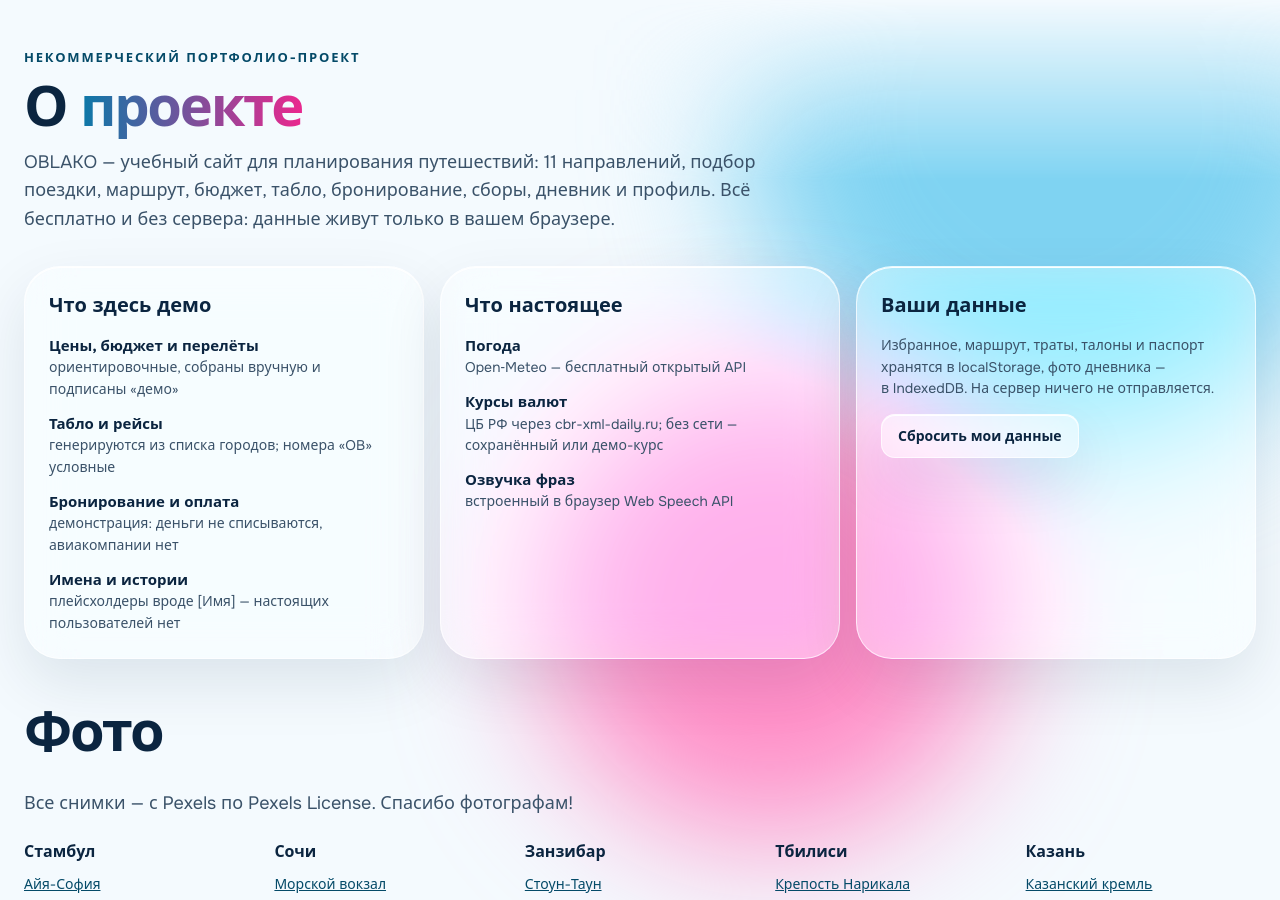
Test: About › resets user data after confirmation
Click the button "Сбросить мои данные". click: [980, 436]
box: [881,414,1079,458]
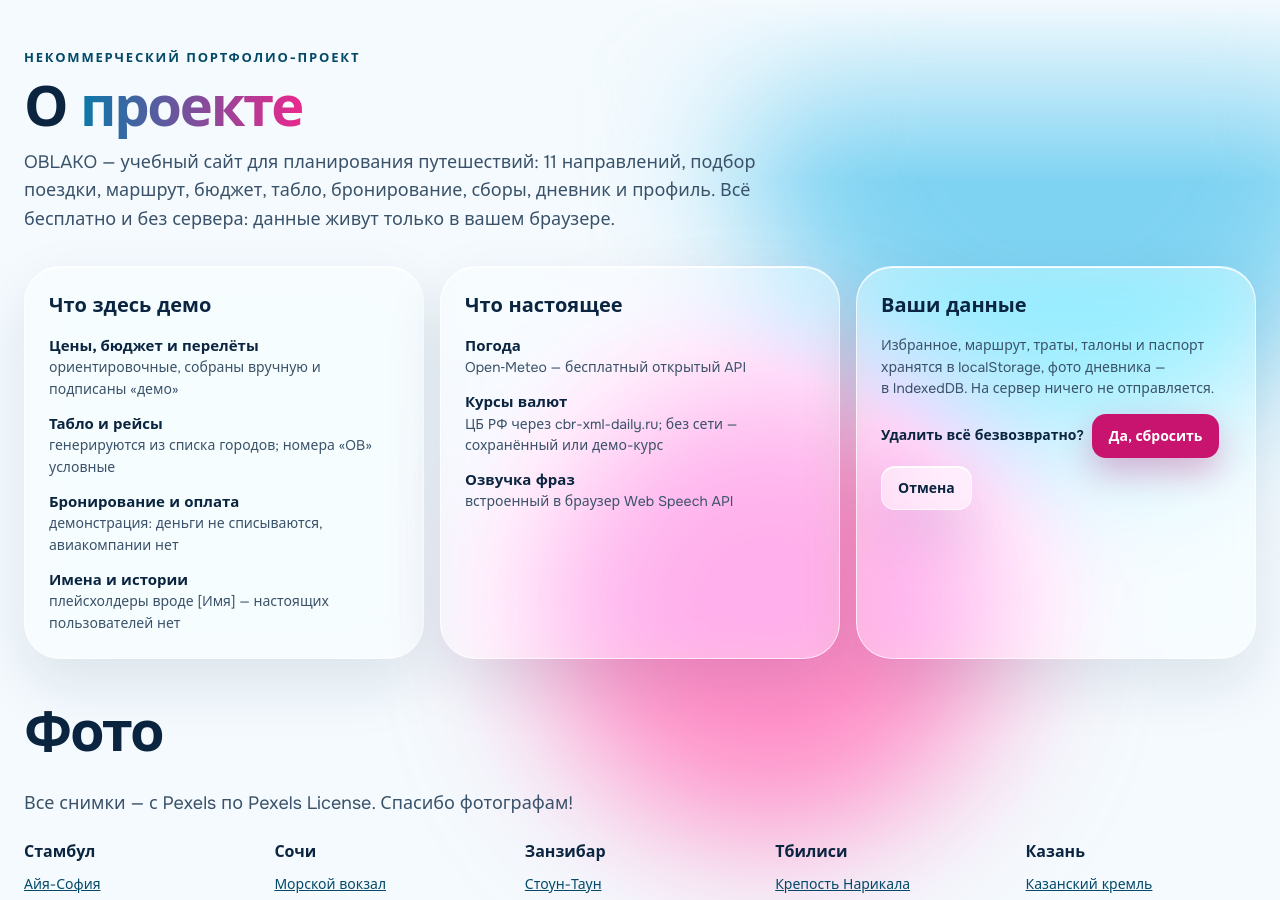
Click the button "Да, сбросить". click: [1156, 436]
box: [1092,414,1219,458]
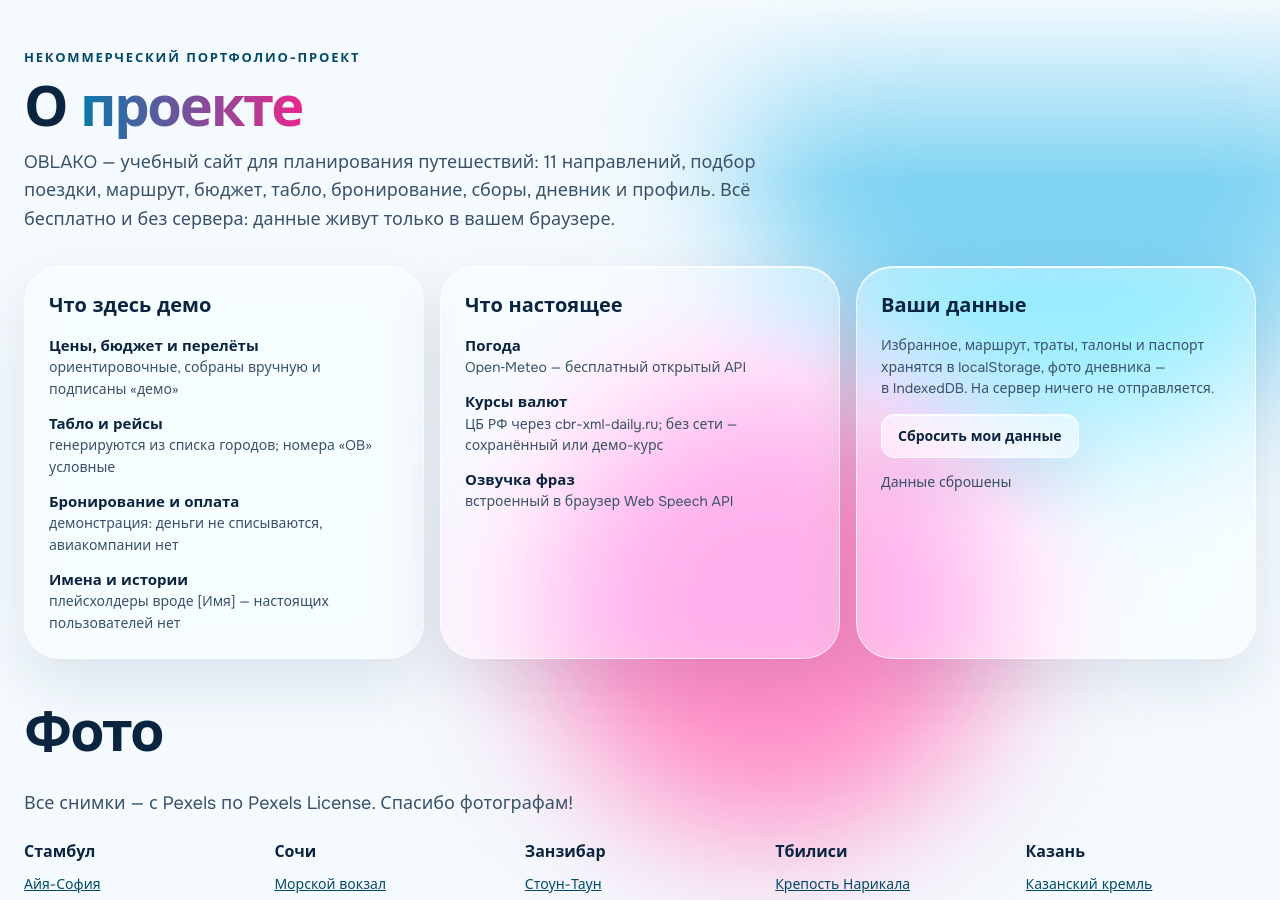
Expected: the message reads "Данные сброшены", [881,473,1011,491]
